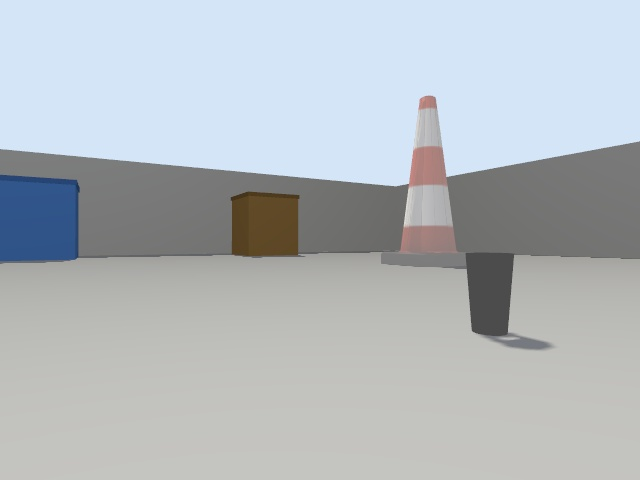cone_chantier: (381, 96, 465, 267)
gobelet: (466, 252, 513, 335)
